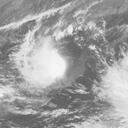cyclone: (31, 51, 64, 84)
